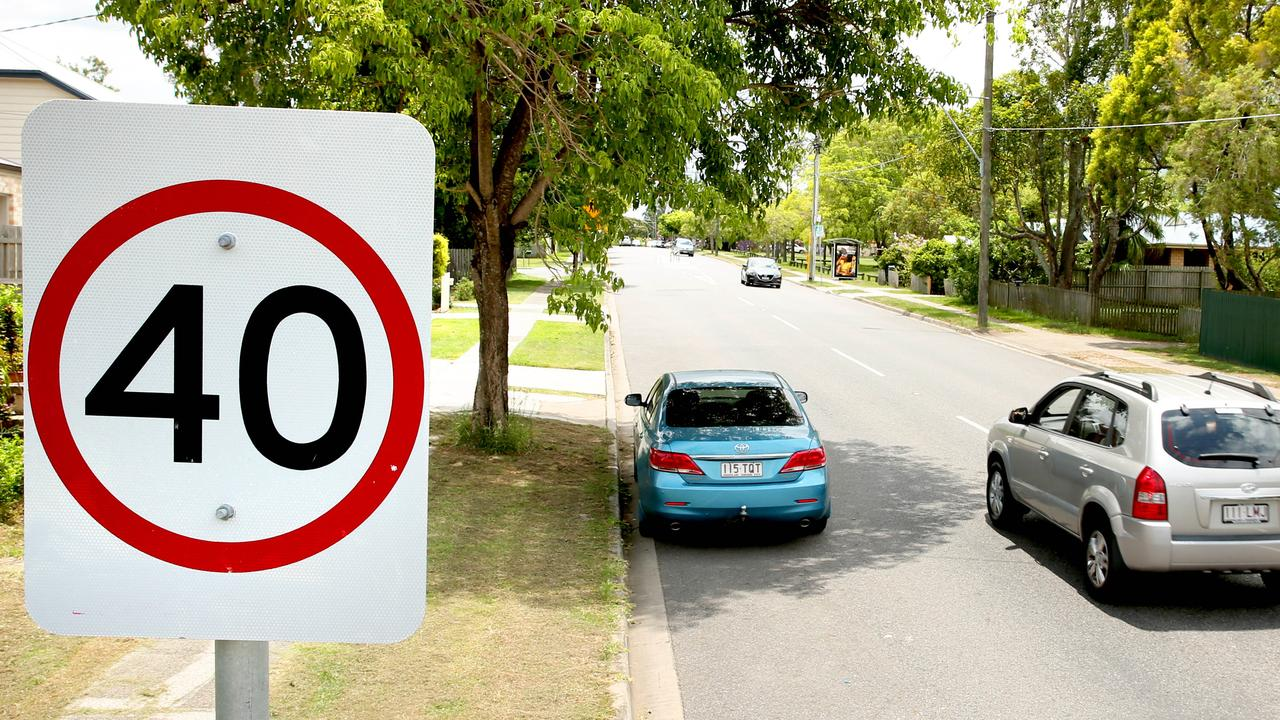40 Km/hr: (28, 180, 424, 571)
